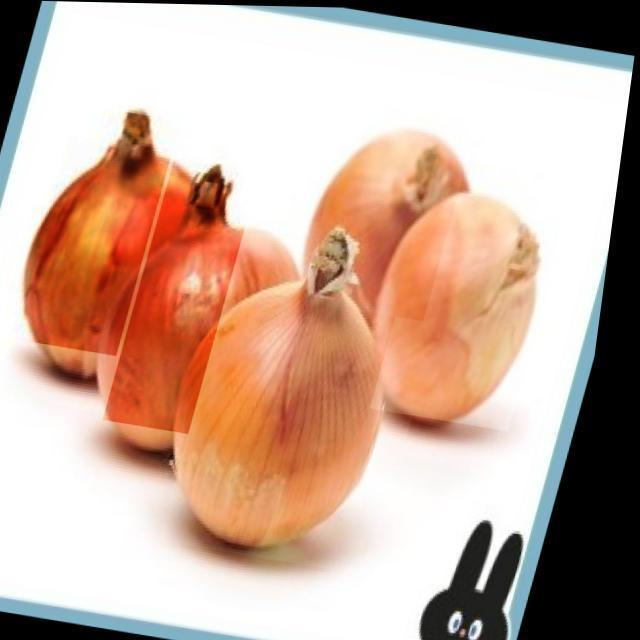Onion: (171, 209, 469, 574), (113, 156, 298, 438), (379, 185, 576, 430), (12, 101, 185, 356), (306, 103, 482, 320)
